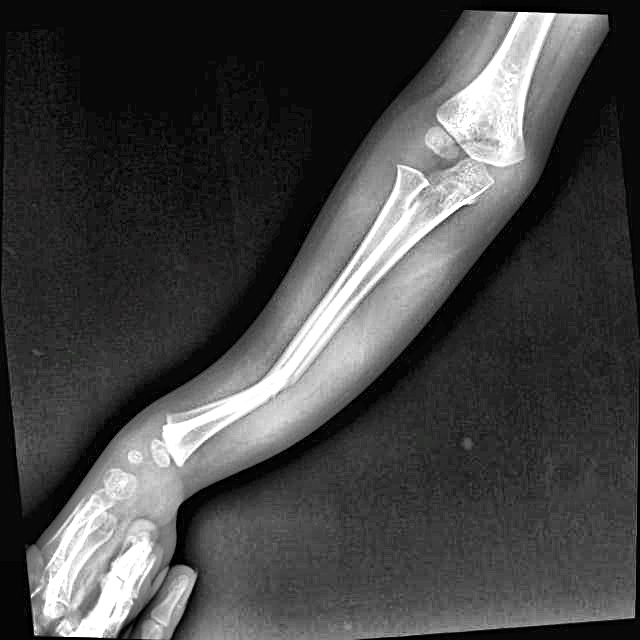Spiral: (260, 339, 310, 409)
